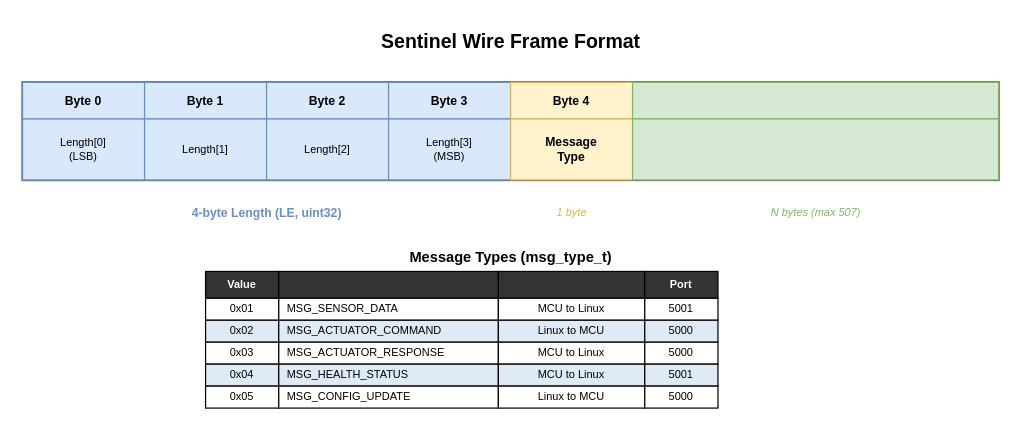
Image size: 1020x429. Some labels were removed from this diagram. The centre of each missing label's shape, as x and y in pixels:
"Bytes 5 ... N+4" belongs at (815,100).
"Direction" belongs at (571,284).
"Name" belongs at (388,284).
"Protobuf Payload (N bytes)" belongs at (815,149).
